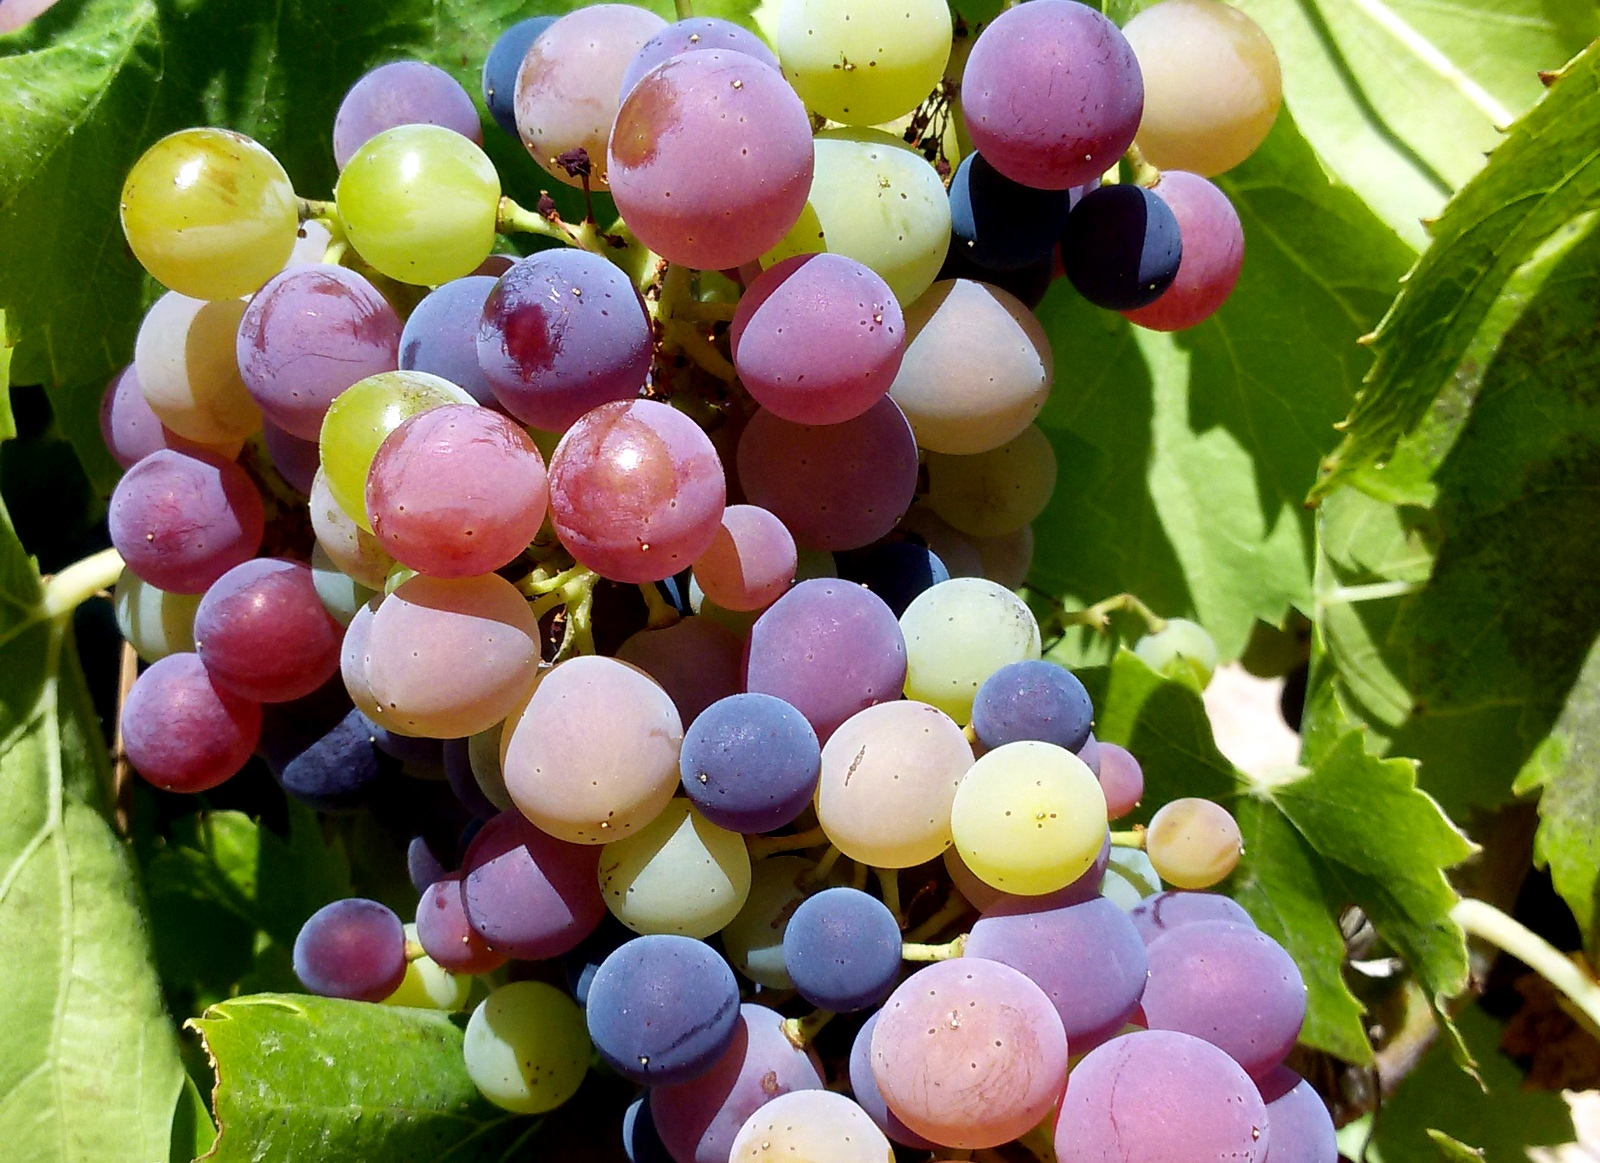Red Grapes: (599, 39, 819, 261), (524, 398, 752, 588), (875, 947, 1072, 1159), (961, 2, 1147, 189)
